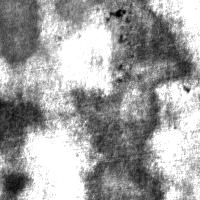patches: (70, 88, 163, 198), (0, 0, 106, 92), (107, 1, 196, 104), (61, 5, 133, 77), (1, 95, 46, 169), (2, 1, 49, 66), (55, 1, 103, 33), (1, 167, 32, 200)
